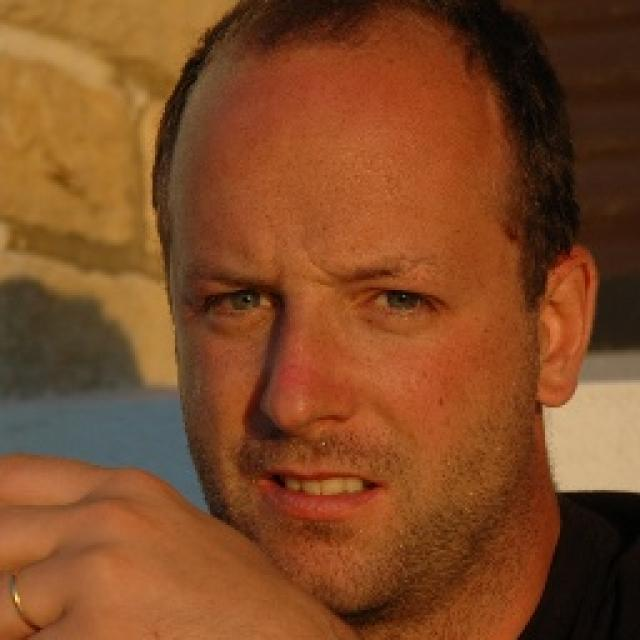earlobe: (533, 248, 599, 409)
